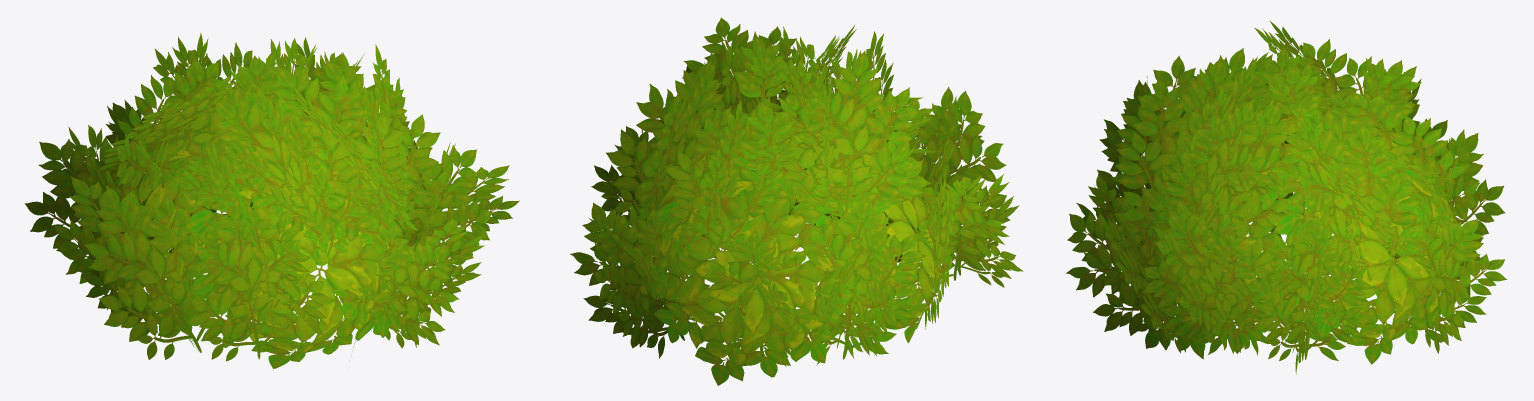
File: Bush_01.fbx
3 views of the same model, side by side, from view 1: azimuth 30°, elevation 25°; view 2: azimuth 150°, elevation 25°; view 3: azimuth 270°, elevation 25° (orthographic). The views are drawn at different scales.
Visible parts, largest first — view 1: Bush_01; view 2: Bush_01; view 3: Bush_01.
Boxes of the visible parts, x1,y1,x2,y2 form: Bush_01: [24, 33, 519, 368]; Bush_01: [570, 17, 1023, 385]; Bush_01: [1066, 21, 1506, 374].
Bounding box in the file's own units: 313 × 211 × 305.
